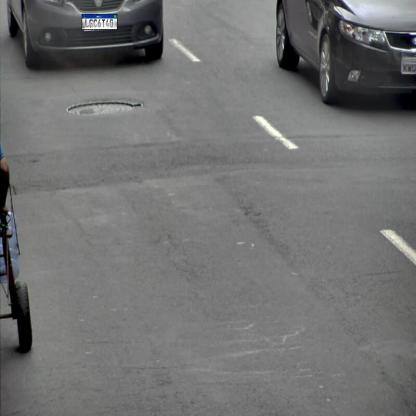PlacaM: (82, 14, 118, 30)
